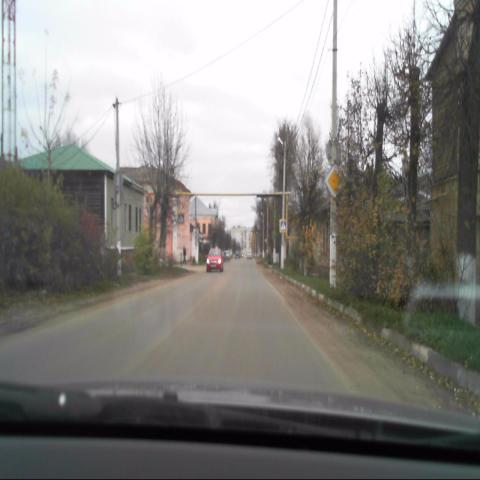2_1: (325, 164, 345, 198)
5_19_1: (176, 210, 185, 225), (278, 219, 287, 232)
